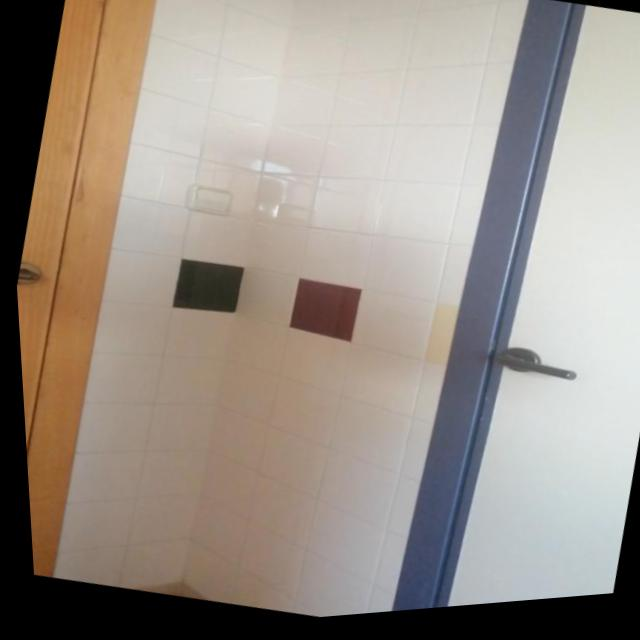door_handle: (480, 351, 573, 399), (13, 264, 46, 284)
